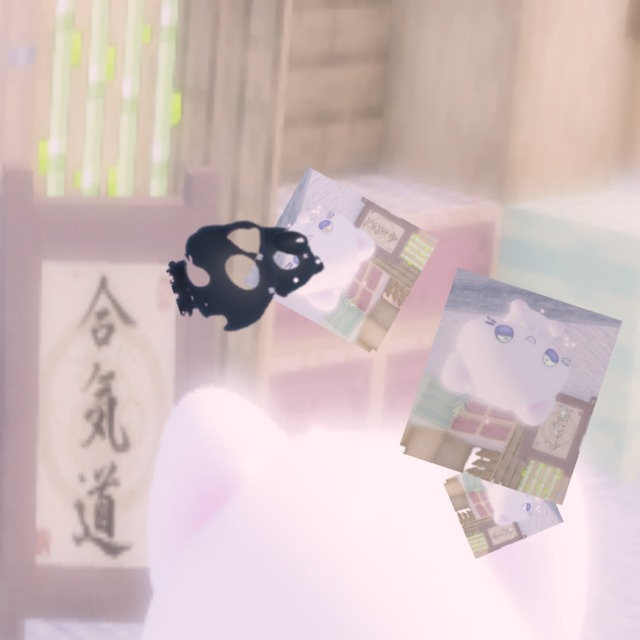urso_branco: (397, 267, 623, 506), (243, 166, 440, 356), (442, 444, 564, 559)
urso_preto: (155, 186, 348, 357)
